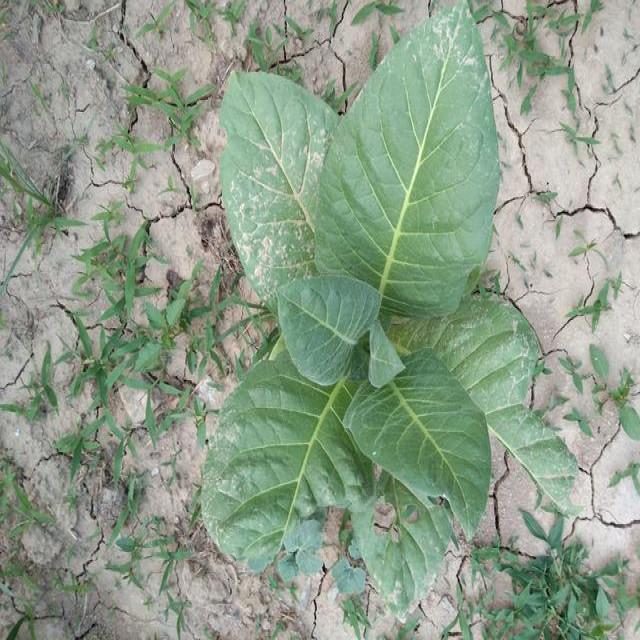crop: (198, 15, 576, 606)
